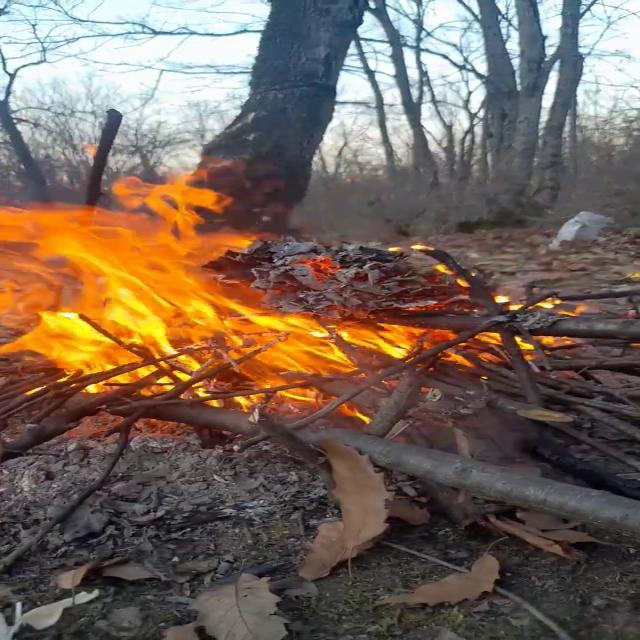Fire: (1, 168, 584, 410)
